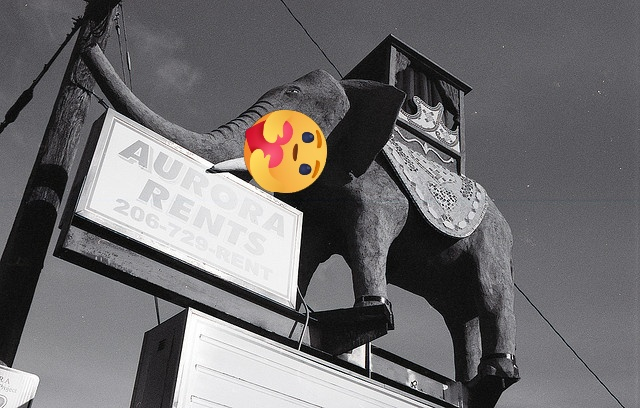care: (244, 110, 327, 193)
